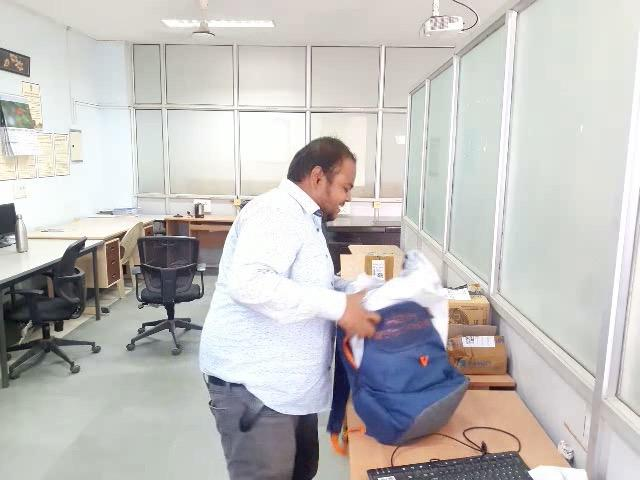shoplifting: (156, 178, 476, 478)
